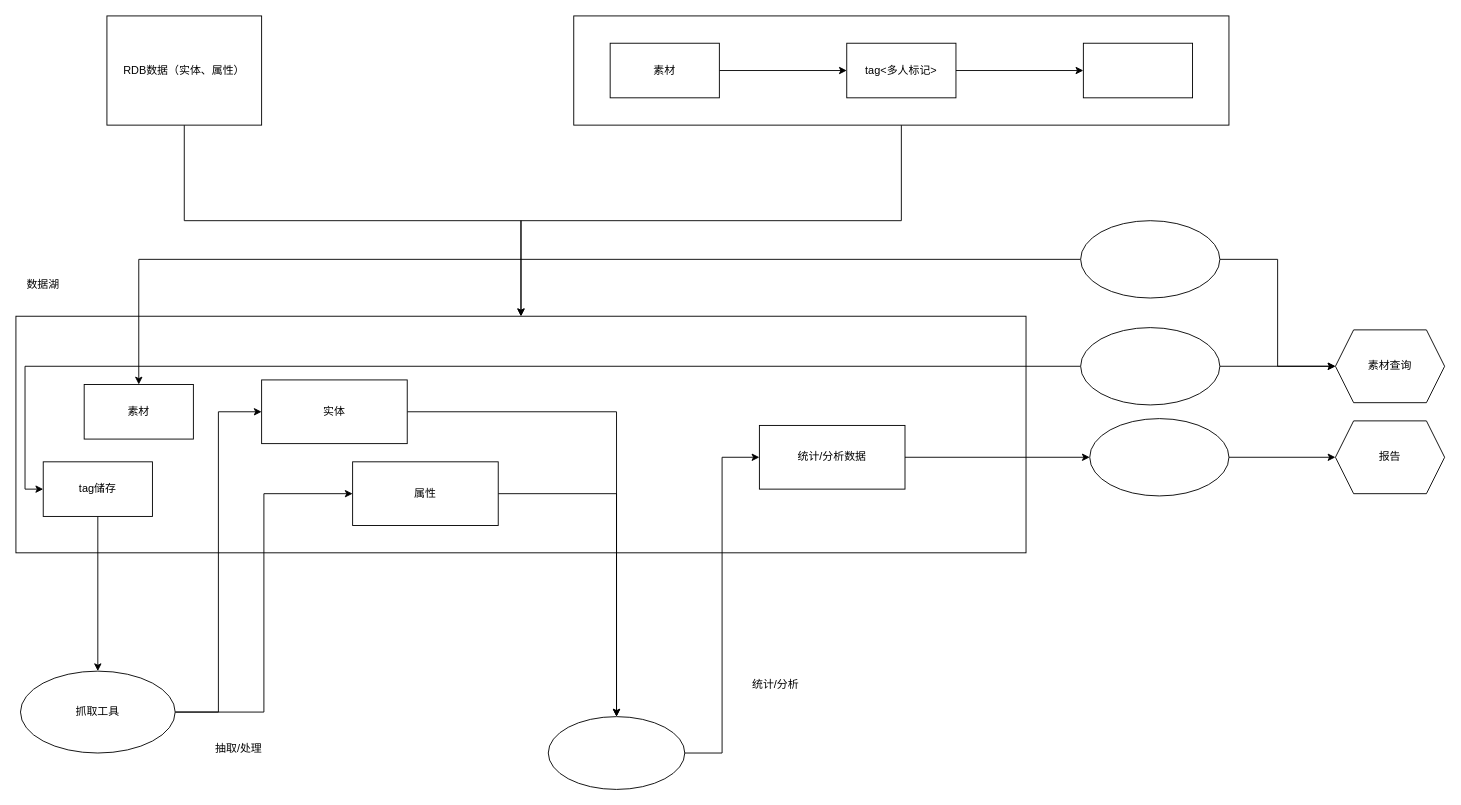
Image size: 1461x805. Some labels were removed from this diagram. Each missing label, with the centre of its shape:
"KV存储" belongs at [1137,70].
"查询引擎" belongs at [1159,457].
"检索标签" belongs at [1150,366].
"检索素材" belongs at [1150,259].
"统计分析工具" belongs at [616,752].
